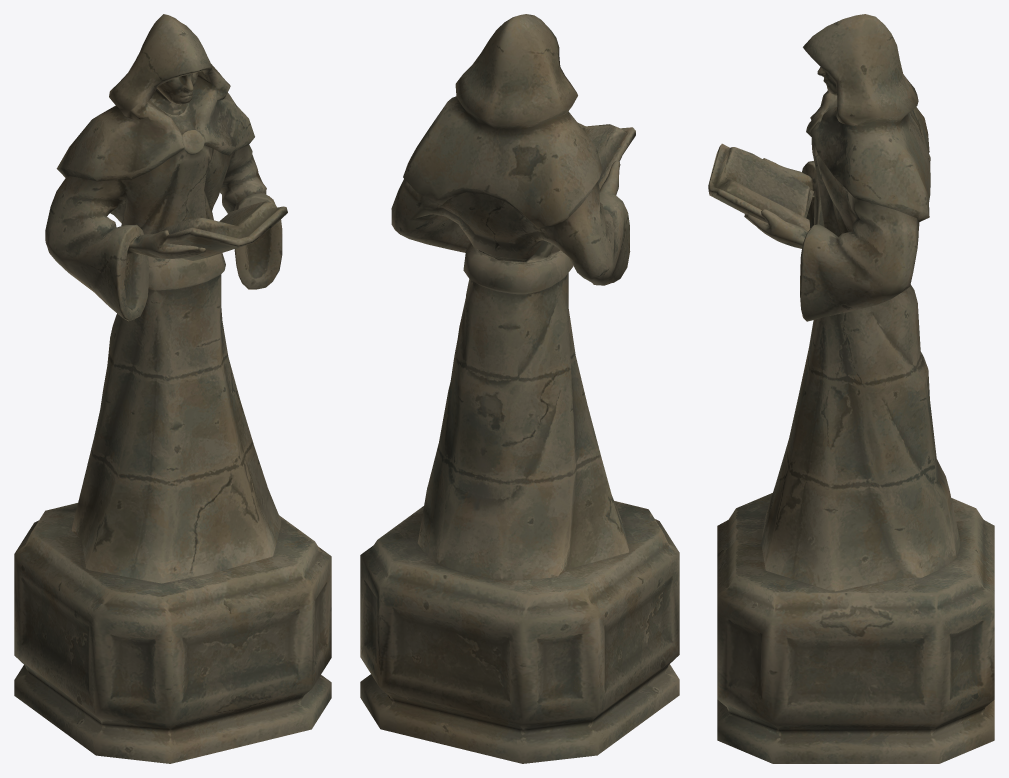
Rendered from pbr_stylized_statue_-_mage__wizard.obj.
3 renders of one model, left to right at view 1: azimuth 30°, elevation 25°; view 2: azimuth 150°, elevation 25°; view 3: azimuth 270°, elevation 25°, orthographic.
Parts seen in each view (by area): view 1: obj2, obj1, obj3; view 2: obj2, obj1; view 3: obj2, obj1.
Boxes of the visible parts, x1,y1,x2,y2 form: obj2: (14,14,331,763); obj1: (160,201,287,260); obj3: (150,72,198,115); obj2: (360,14,679,763); obj1: (577,122,635,189); obj2: (717,14,994,763); obj1: (708,143,813,231).
Size of the model in its own units: 1.41 by 3.89 by 1.46.
1 material, 1 textured.
